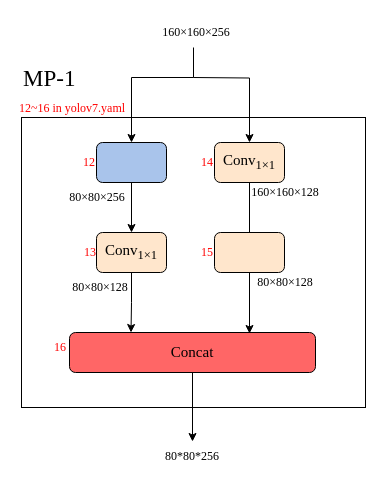
Image size: 383x488. Some labels were removed from this diagram. The box of each missing label's shape, as (x1, y1, x2, y2) in pixels:
Conv 3 ×3: (214, 232, 284, 272)
MP 2×2: (96, 142, 166, 182)
